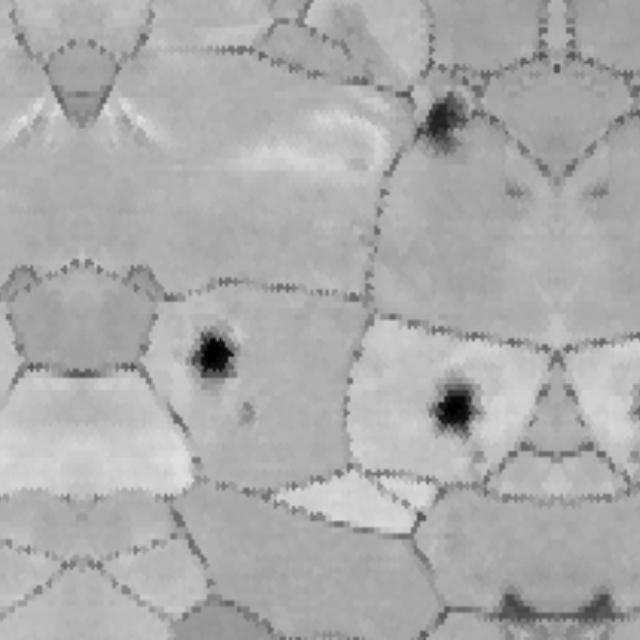good_void: (417, 376, 488, 443), (175, 312, 244, 380), (414, 95, 471, 155), (476, 586, 539, 628), (577, 586, 640, 628), (234, 391, 267, 427), (498, 173, 531, 204), (585, 173, 618, 204), (467, 442, 497, 471), (619, 443, 640, 470)
